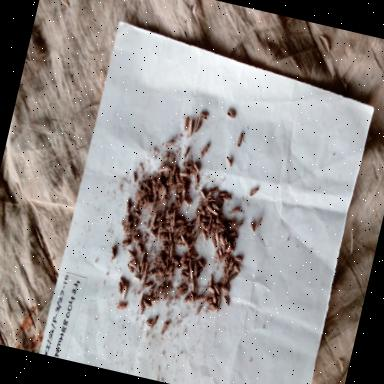pbw: (190, 260, 203, 280), (106, 244, 118, 264), (158, 318, 170, 338), (148, 313, 160, 333), (246, 184, 260, 200), (124, 246, 140, 260), (161, 284, 172, 304), (199, 141, 211, 159), (205, 270, 216, 289), (126, 220, 138, 237), (121, 282, 131, 302), (216, 250, 230, 264), (114, 299, 128, 313), (225, 106, 238, 121), (223, 154, 235, 170), (229, 204, 242, 218), (142, 277, 156, 290), (149, 210, 159, 228), (192, 116, 202, 134), (166, 240, 176, 258), (186, 266, 197, 282), (212, 231, 222, 248), (129, 169, 139, 186), (224, 260, 234, 277), (194, 292, 207, 305), (227, 232, 240, 245), (195, 258, 208, 271), (209, 201, 222, 214), (176, 169, 190, 181), (148, 264, 160, 278), (162, 268, 176, 280), (234, 219, 246, 233), (232, 262, 244, 276), (156, 164, 170, 176), (220, 191, 234, 203), (180, 196, 192, 210), (147, 228, 159, 242), (120, 236, 132, 250), (138, 250, 147, 268), (165, 199, 175, 215), (187, 290, 197, 306), (186, 118, 196, 134), (182, 116, 192, 132), (176, 185, 188, 198), (198, 109, 210, 122), (198, 230, 210, 243), (219, 284, 232, 296), (182, 158, 195, 170), (130, 272, 142, 285), (130, 232, 141, 246), (221, 294, 232, 308), (196, 202, 207, 216), (247, 220, 258, 234), (193, 224, 202, 241), (182, 144, 190, 163), (203, 190, 213, 205), (192, 170, 202, 185), (159, 186, 168, 202), (115, 280, 124, 296), (142, 260, 150, 278), (158, 232, 170, 244), (178, 269, 190, 281), (176, 281, 188, 293), (178, 258, 190, 270), (233, 252, 245, 264), (255, 214, 264, 230), (214, 296, 222, 314), (208, 184, 220, 196), (138, 290, 146, 308), (164, 210, 176, 222), (190, 161, 201, 174), (160, 152, 170, 166), (182, 292, 192, 306), (212, 280, 222, 294), (183, 219, 193, 233), (218, 234, 228, 248), (148, 282, 158, 296), (169, 163, 178, 178), (194, 303, 203, 318), (142, 300, 154, 311), (149, 295, 161, 306), (169, 256, 181, 267), (214, 195, 225, 207), (143, 316, 154, 328), (178, 286, 189, 298), (207, 208, 220, 218), (198, 187, 208, 200), (174, 220, 184, 233), (134, 242, 144, 255), (178, 232, 188, 245), (138, 302, 146, 318), (168, 218, 176, 234), (189, 280, 198, 294), (206, 286, 218, 296), (174, 179, 186, 189), (225, 217, 237, 227), (192, 206, 200, 221), (160, 283, 168, 298), (214, 216, 224, 228), (164, 138, 176, 148), (126, 260, 138, 270), (229, 270, 239, 282), (117, 276, 127, 288), (210, 293, 219, 306), (154, 284, 162, 298), (223, 271, 230, 287), (132, 208, 142, 219), (198, 219, 208, 230), (216, 224, 227, 234), (207, 302, 218, 312), (159, 220, 170, 230), (206, 213, 214, 226), (156, 172, 164, 185), (226, 243, 236, 253), (190, 250, 200, 260), (218, 188, 228, 198), (204, 296, 214, 305), (216, 249, 224, 260), (144, 294, 154, 302), (126, 266, 134, 275)
